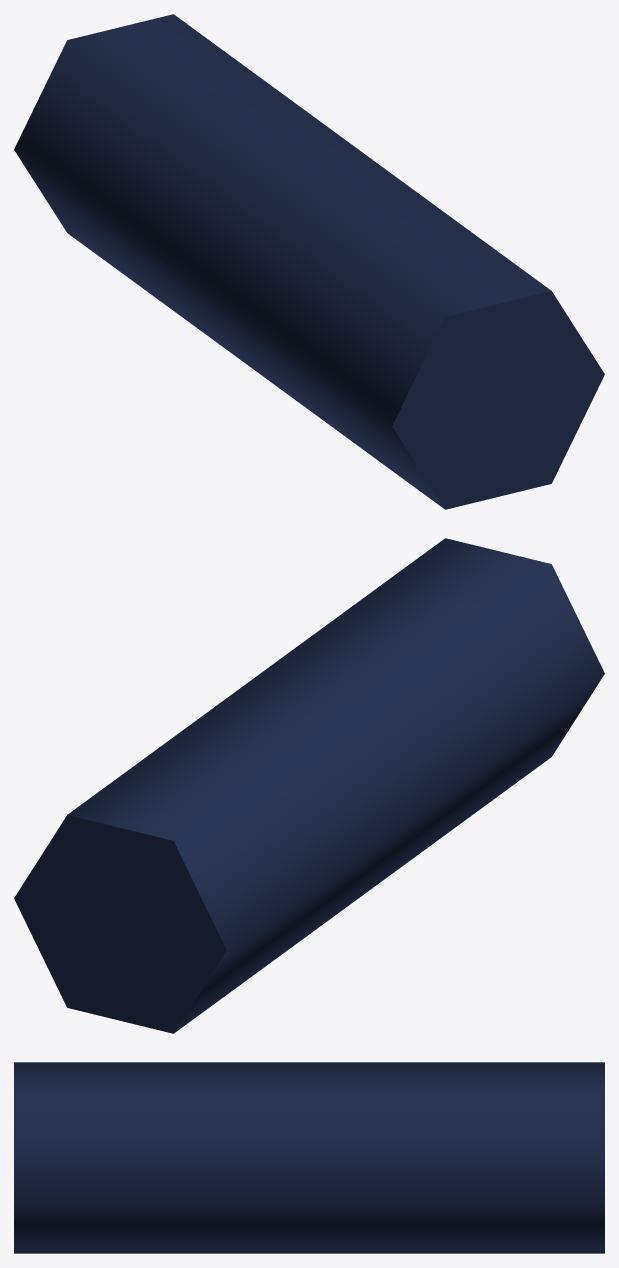
Rendered from s60_starter.obj.
The picture shows the model from 3 angles, top to bottom: view 1: azimuth 30°, elevation 25°; view 2: azimuth 150°, elevation 25°; view 3: azimuth 270°, elevation 25°; orthographic projection. The views are drawn at different scales.
Visible parts, largest first — view 1: s60_starter; view 2: s60_starter; view 3: s60_starter.
Part boxes in pixels (bbox=[...]): s60_starter: bbox=[14, 14, 604, 509]; s60_starter: bbox=[14, 538, 604, 1033]; s60_starter: bbox=[14, 1062, 604, 1253].
Size of the model in its own units: 0.1875 by 0.1624 by 0.577.
